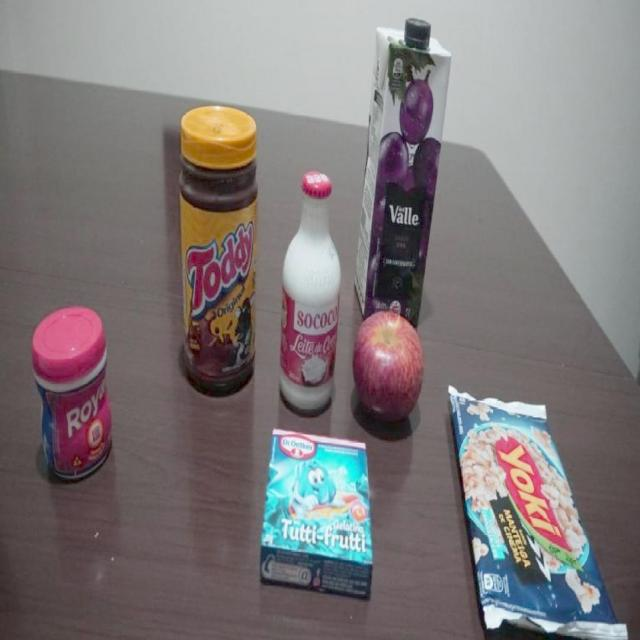Apple: (352, 310, 424, 424)
ChocolatePowder: (178, 106, 258, 394)
CoconutMilk: (279, 170, 343, 414)
Gelatine: (260, 426, 375, 602)
Popcorn: (444, 383, 628, 640)
Yeast: (28, 306, 115, 484)
